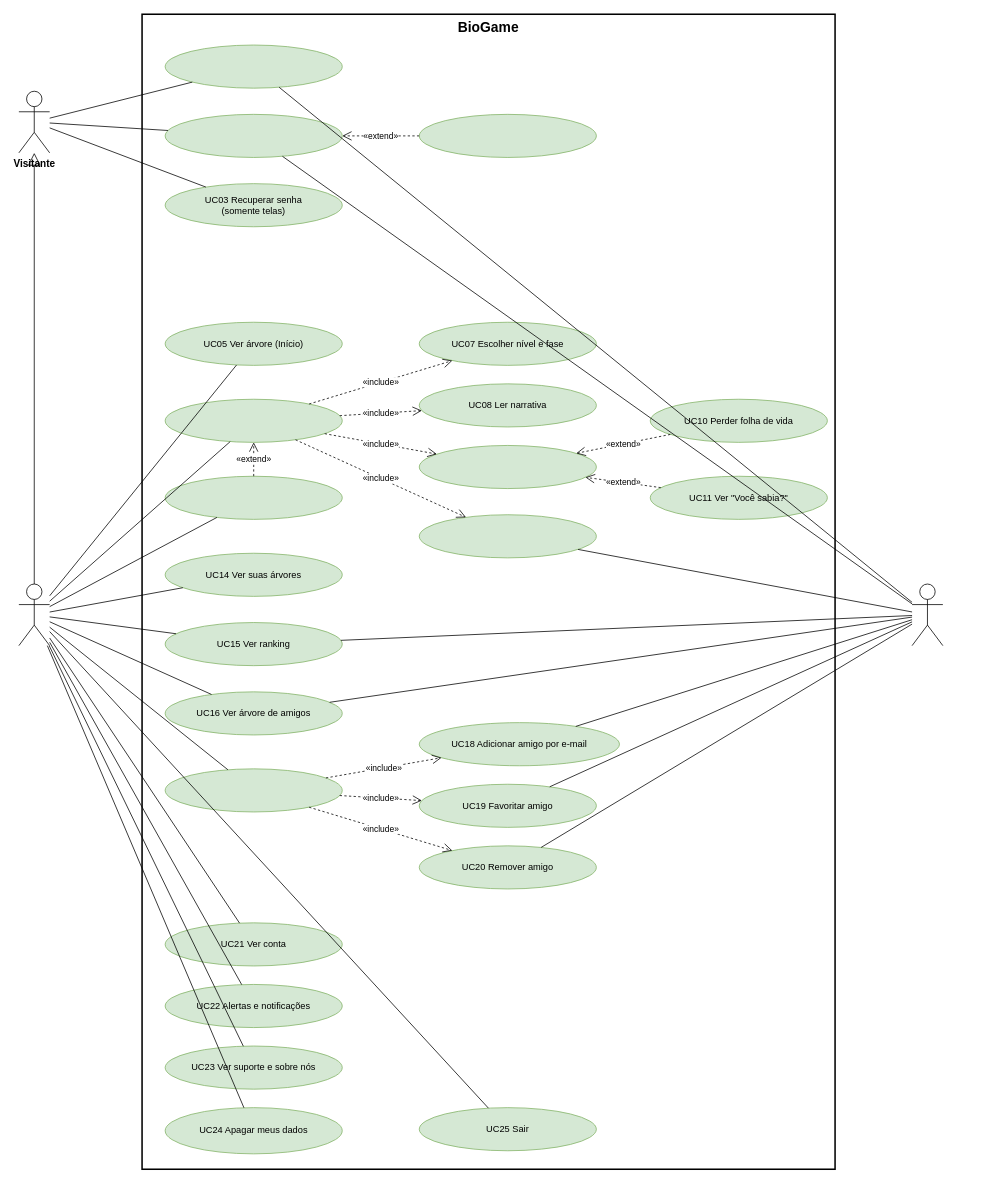
Some shapes in this 1006 by 1183 pixel diagram are drawn without their labels. Here are the shapes that lost their labels. From the top down, the centre of each, then its label:
At point 253,66: "UC01 Cadastrar-se".
At point 253,135: "UC02 Entrar".
At point 507,135: "UC04 Ver tutorial inicial".
At point 253,420: "UC06 Jogar fase".
At point 507,467: "UC09 Responder quiz".
At point 253,497: "UC13 Jogar nível bônus".
At point 507,536: "UC12 Salvar progresso".
At point 34,614: "Jogador".
At point 927,614: "Firebase (Authentication e Firestore)".
At point 253,790: "UC17 Gerenciar amigos".
